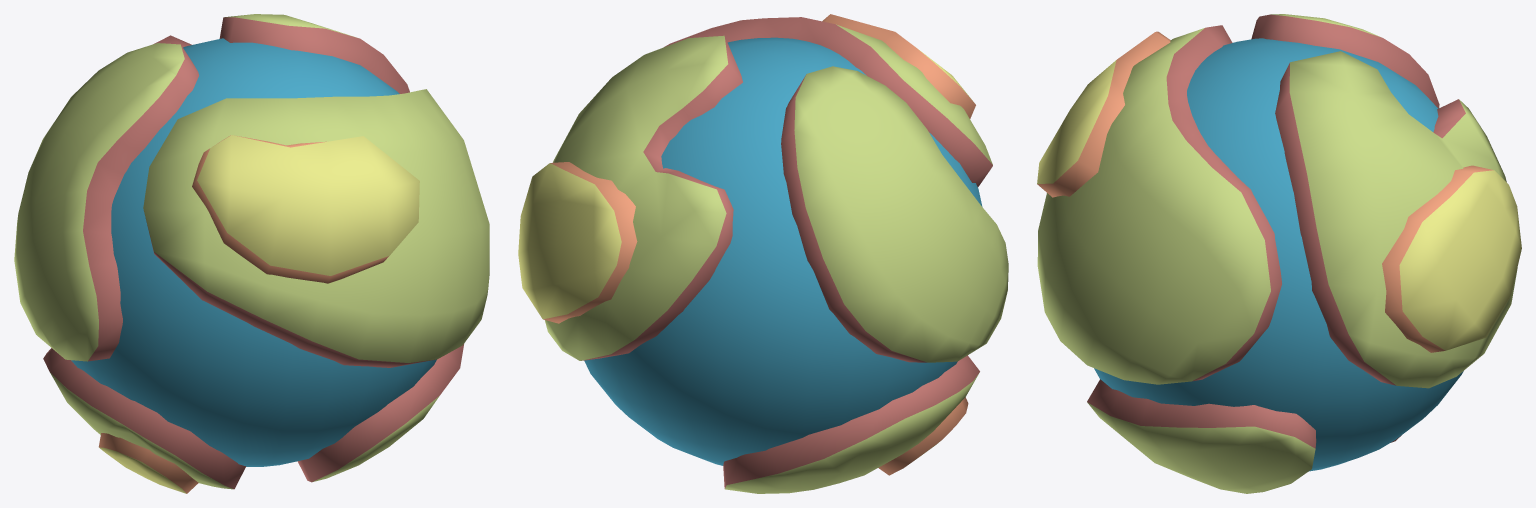
Rendered from terre.FBX.
3 renders of one model, left to right at view 1: azimuth 30°, elevation 25°; view 2: azimuth 150°, elevation 25°; view 3: azimuth 270°, elevation 25°, orthographic.
Visible parts, largest first — view 1: _terre_continent_00, _terre_eau_00, _terre_continent_01, _terre_continent_top_00, _terre_continent_04, _terre_continent_03, _terre_continent_02, _terre_continent_top_02; view 2: _terre_eau_00, _terre_continent_01, _terre_continent_02, _terre_continent_top_01, _terre_continent_04, _terre_continent_00, _terre_continent_top_00, _terre_continent_top_02; view 3: _terre_continent_00, _terre_continent_02, _terre_eau_00, _terre_continent_top_01, _terre_continent_03, _terre_continent_top_00, _terre_continent_01.
Boxes of the visible parts, <box> form: _terre_continent_00: <box>143,89,489,367</box>; _terre_eau_00: <box>71,38,436,466</box>; _terre_continent_01: <box>14,43,199,361</box>; _terre_continent_top_00: <box>192,135,419,283</box>; _terre_continent_04: <box>43,348,245,489</box>; _terre_continent_03: <box>297,344,463,482</box>; _terre_continent_02: <box>153,14,409,93</box>; _terre_continent_top_02: <box>98,433,198,493</box>; _terre_eau_00: <box>584,37,982,465</box>; _terre_continent_01: <box>781,66,1008,362</box>; _terre_continent_02: <box>545,35,742,360</box>; _terre_continent_top_01: <box>518,162,637,323</box>; _terre_continent_04: <box>723,355,979,493</box>; _terre_continent_00: <box>664,17,992,186</box>; _terre_continent_top_00: <box>822,14,975,118</box>; _terre_continent_top_02: <box>878,397,968,475</box>; _terre_continent_00: <box>1037,25,1281,384</box>; _terre_continent_02: <box>1275,51,1517,388</box>; _terre_eau_00: <box>1094,38,1463,471</box>; _terre_continent_top_01: <box>1382,165,1521,352</box>; _terre_continent_03: <box>1087,379,1316,493</box>; _terre_continent_top_00: <box>1037,31,1170,197</box>; _terre_continent_01: <box>1251,14,1439,108</box>.
Bounding box in the file's own units: 2.33 × 2.29 × 2.35.
